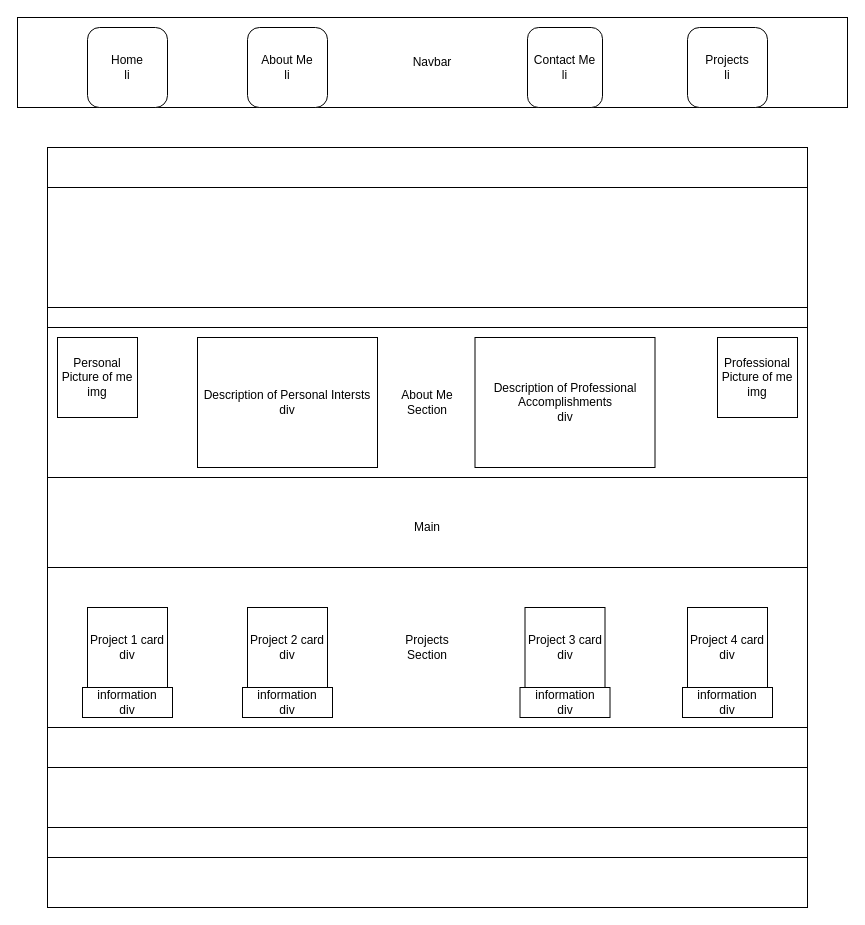
The diagram is 865 pixels wide and 925 high, and some of its shapes have lost their labels. The shapes that lost their labels are listed below. From the top down, each one's centre as x and y in pixels, then its label:
At [427,247]: "Home Section".
At [427,797]: "Contact Me Section".
At [427,882]: "Footer".
